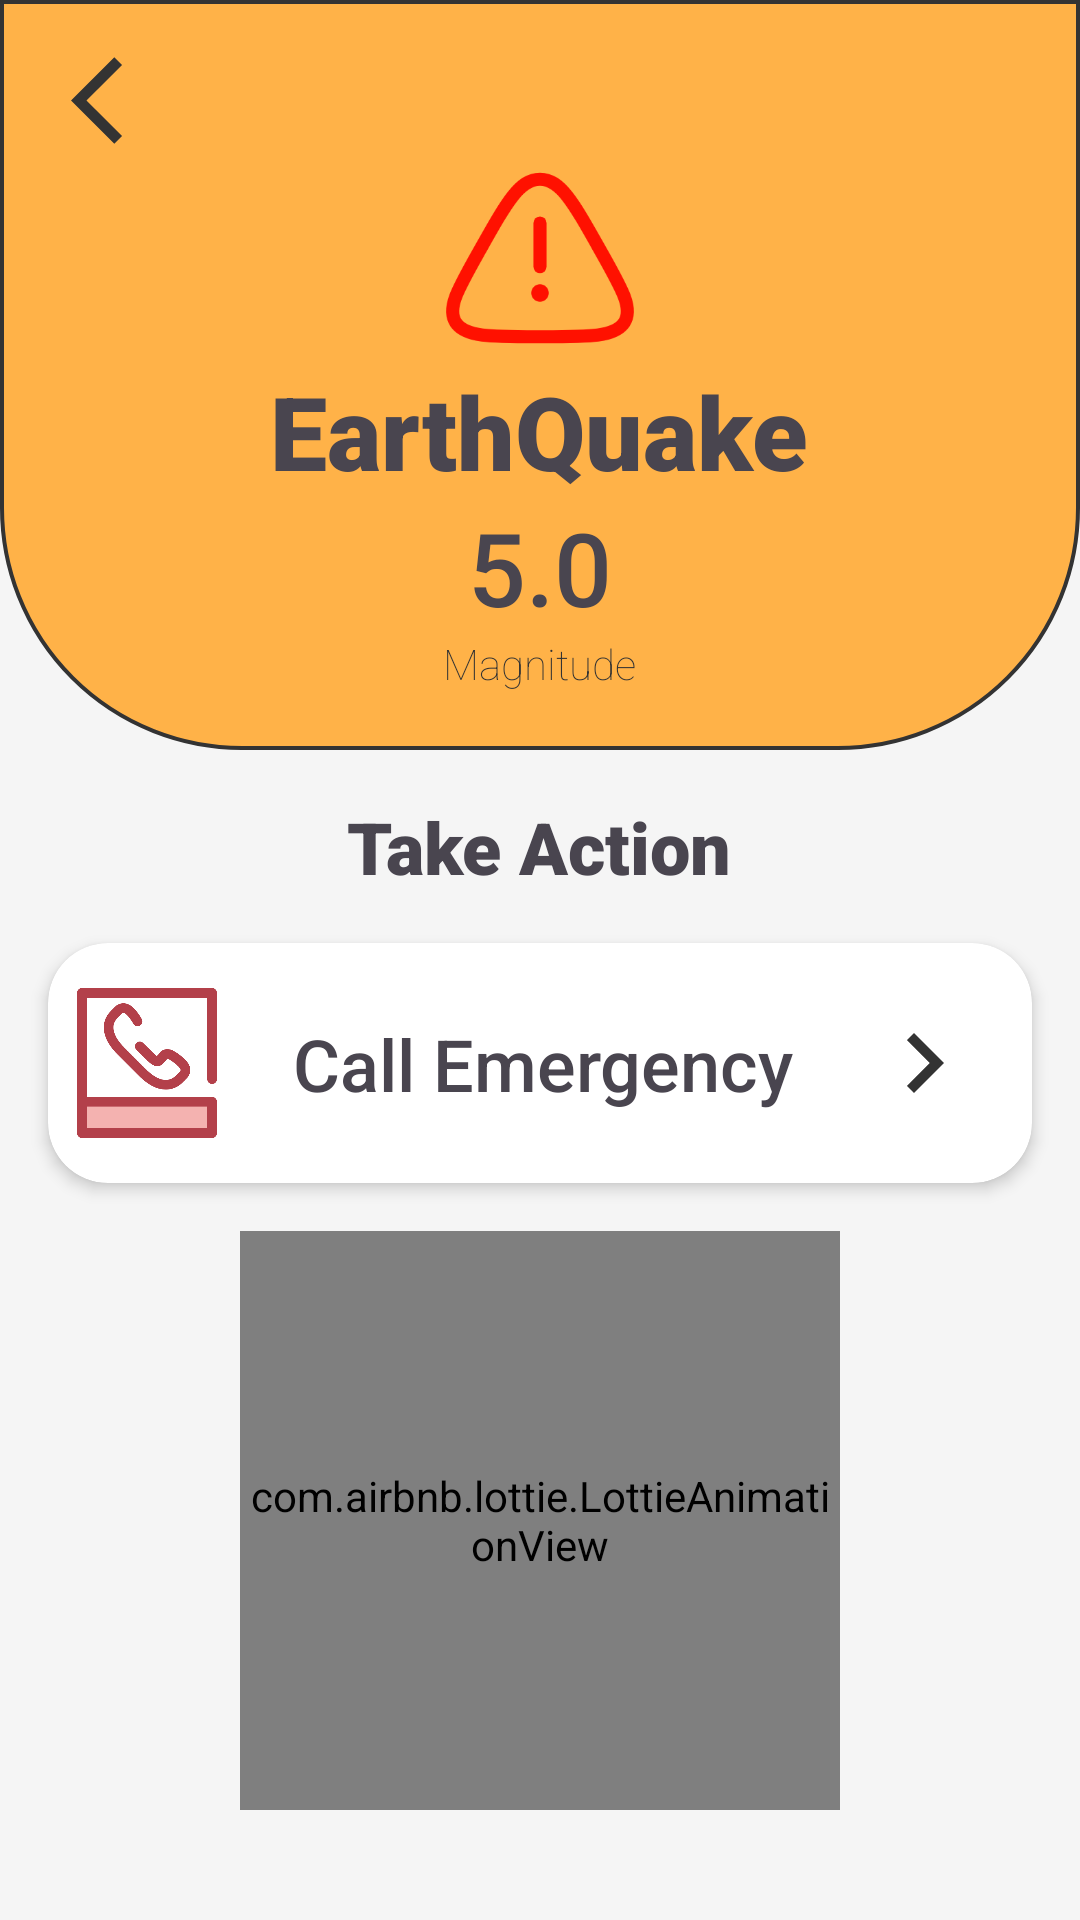

Icons on this 1080×1920 Android screen, each with its box as (left=x1, top=y1, right=x2, bottom=y2):
arrow back: (left=71, top=57, right=122, bottom=144)
chevron right: (left=907, top=1033, right=944, bottom=1093)
danger triangle: (left=446, top=172, right=634, bottom=344)
phone: (left=77, top=988, right=217, bottom=1138)
